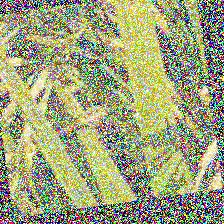Bacterial_Leaf_Blight: (161, 109, 171, 138), (128, 0, 140, 14)
